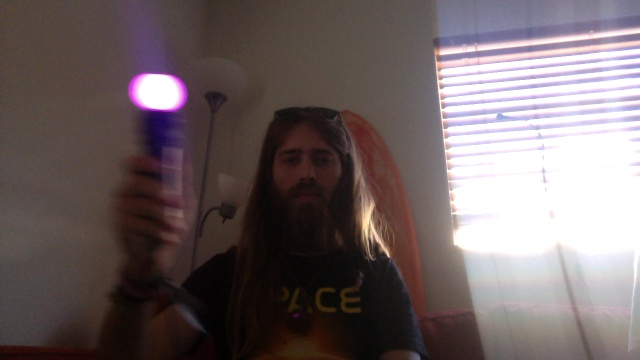wand: (129, 75, 188, 111)
